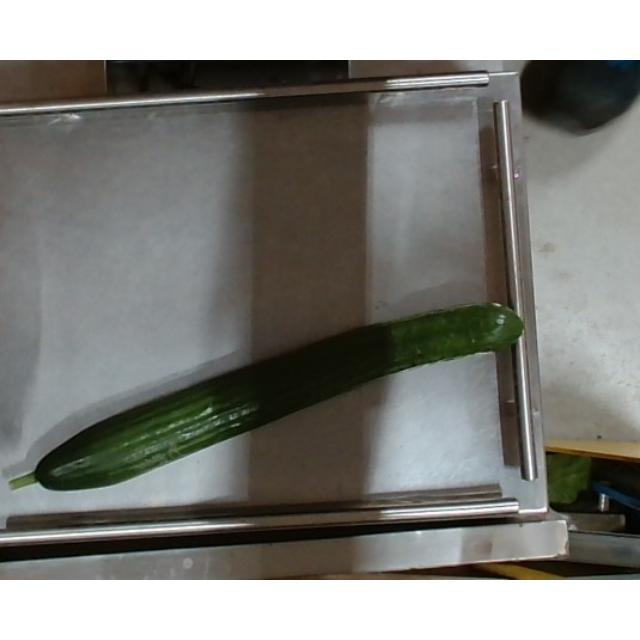cucumber: (19, 302, 531, 492)
